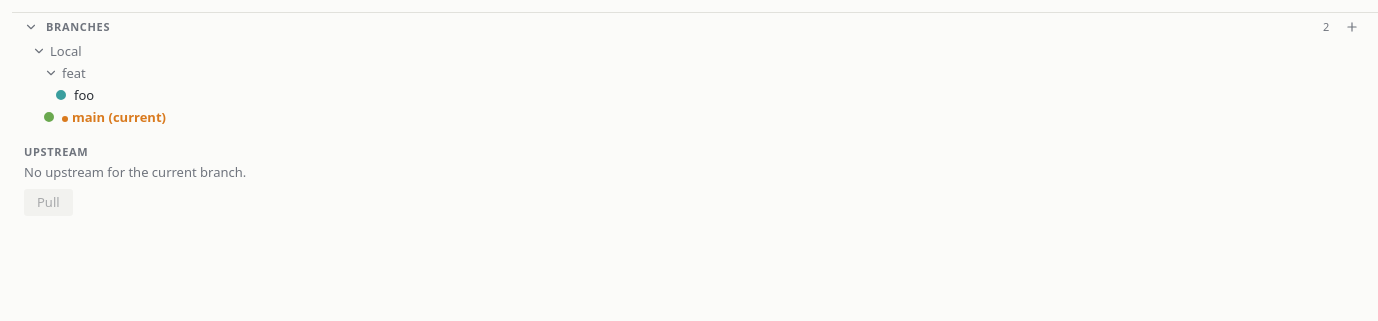
Test: BranchTree — local branches › disables the merge action while a merge is already in progress
Right-click the button "foo": (75, 95) [56,86,94,104]
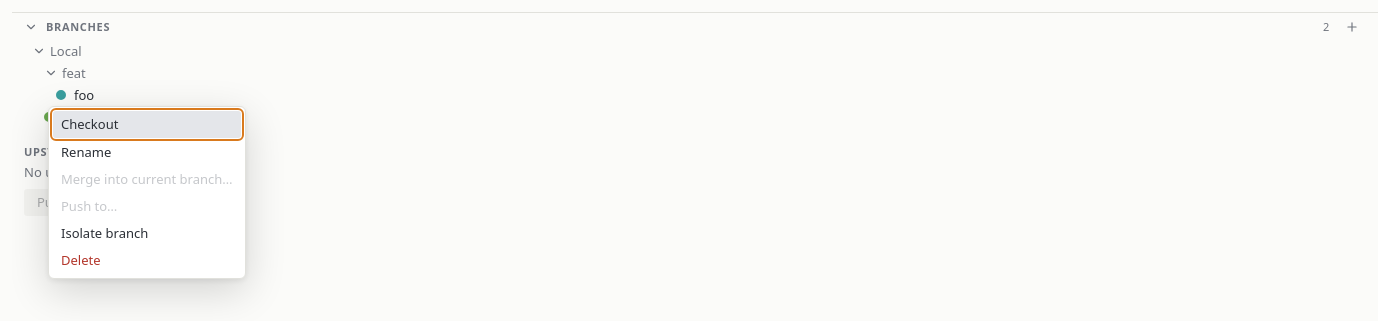
Now the menu item "Merge into current branch…" is disabled, box [53,166,241,192]
